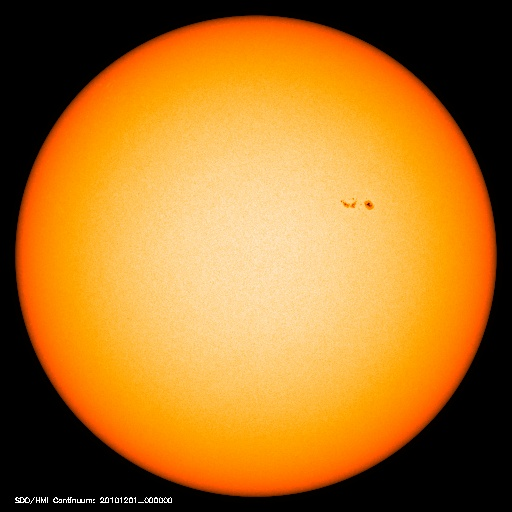sunspot: (334, 190, 382, 219)
